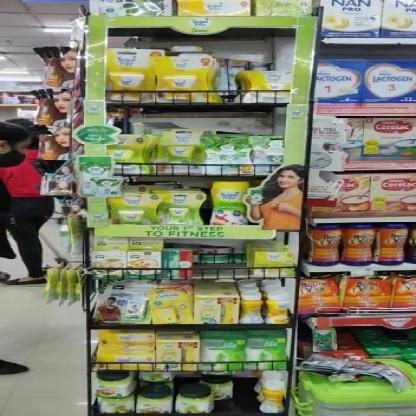SUGAR FREE GOLD 500 PELLET: (152, 56, 223, 104), (103, 50, 158, 103), (230, 72, 284, 102)
SUGAR FREE GRN 300 PELLET: (197, 134, 241, 173), (244, 137, 280, 174)
SUGAR FREE NATURA 500 PELLET: (144, 188, 205, 224), (100, 135, 152, 176), (150, 135, 196, 174), (101, 195, 150, 224)
SUGAR FREE NATURA DIET SUGAR 80GM: (207, 181, 246, 226)
SUGAR FREE NATURA_ POWDER_CONC_100G: (256, 284, 284, 322), (235, 285, 259, 321)
